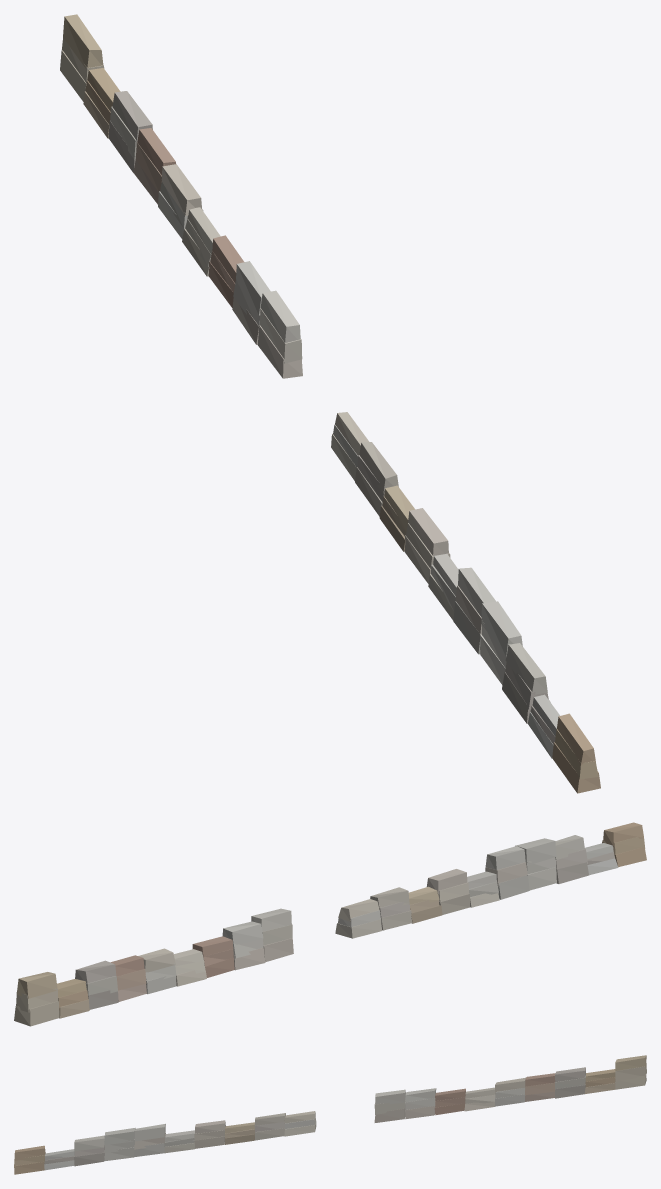
Rendered from farm_-12_-10_mid.glb.
3 views of the same model, one above another, from view 1: azimuth 30°, elevation 25°; view 2: azimuth 150°, elevation 25°; view 3: azimuth 270°, elevation 25° (orthographic). The views are drawn at different scales.
Parts seen in each view (by area): view 1: geometry_0; view 2: geometry_0; view 3: geometry_0.
Boxes of the visible parts, bbox=[...] form: geometry_0: bbox=[60, 14, 600, 793]; geometry_0: bbox=[14, 822, 646, 1026]; geometry_0: bbox=[14, 1055, 646, 1174].
Bounding box in the file's own units: 4.09 × 8.26 × 33.11.
